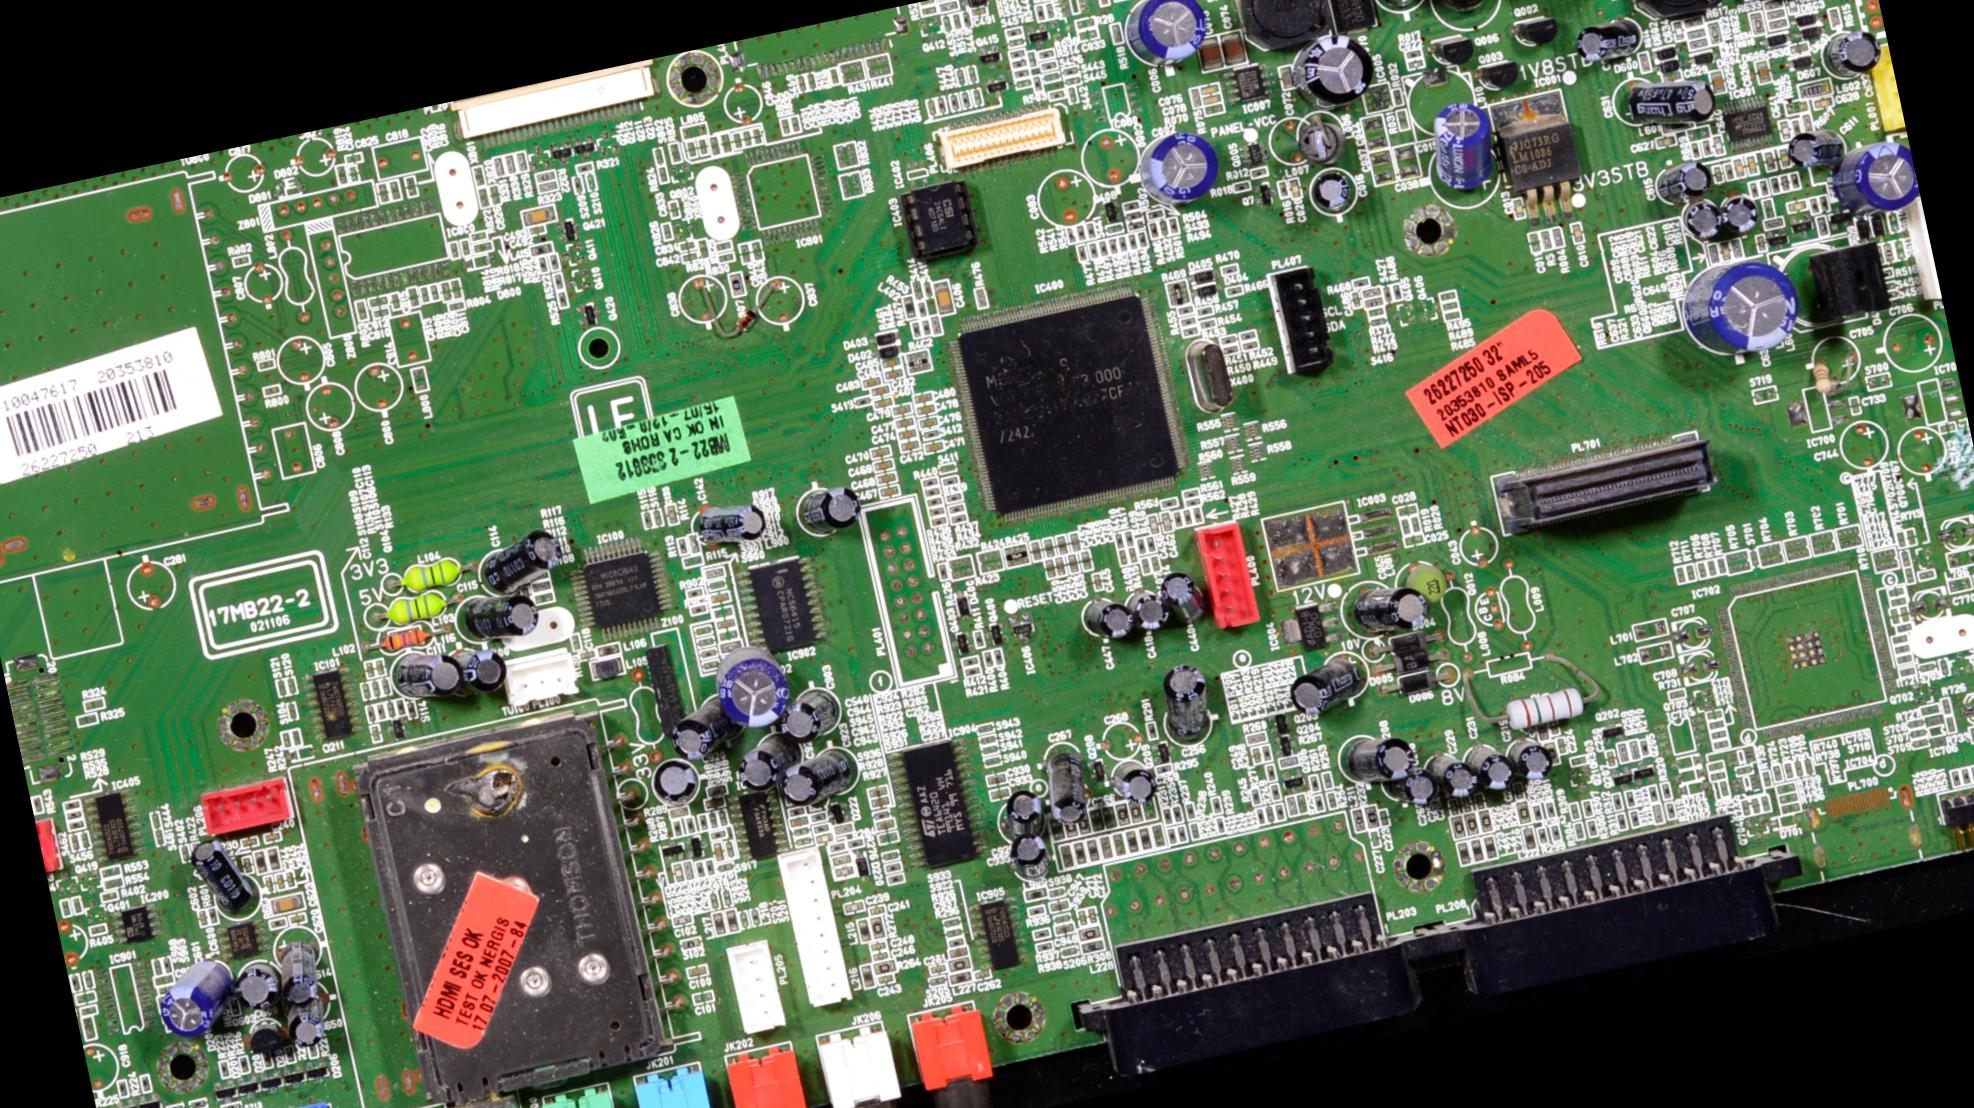Capacitor Jumper: (1358, 698, 1554, 804), (729, 721, 867, 819), (1063, 566, 1211, 655), (1423, 89, 1502, 201), (1868, 303, 1958, 394), (1621, 66, 1718, 132), (1154, 656, 1220, 750), (1283, 650, 1370, 720), (1350, 574, 1434, 640), (1358, 107, 1428, 186), (664, 698, 746, 764), (1000, 787, 1056, 882), (1672, 194, 1762, 249), (869, 385, 953, 440), (850, 431, 911, 506), (1792, 342, 1874, 397), (1039, 744, 1094, 825), (1028, 526, 1098, 584), (774, 686, 849, 740), (1570, 10, 1642, 66), (1892, 420, 1952, 486), (362, 128, 432, 184), (1834, 415, 1897, 475), (1646, 156, 1716, 208), (720, 74, 778, 129), (1709, 146, 1792, 184), (852, 349, 911, 400), (1106, 754, 1159, 808), (398, 274, 466, 316), (1306, 164, 1358, 214), (1194, 28, 1247, 73), (1677, 646, 1721, 686), (1670, 616, 1714, 655), (1071, 9, 1110, 52), (1824, 0, 1863, 37), (1658, 64, 1710, 89), (929, 278, 959, 321), (266, 890, 309, 918), (1444, 790, 1488, 816), (1134, 533, 1160, 576), (732, 238, 766, 270), (267, 910, 313, 932), (1144, 508, 1174, 539), (920, 438, 957, 462), (706, 886, 736, 914), (568, 626, 595, 656), (1274, 60, 1294, 100), (1649, 128, 1682, 152), (1945, 572, 1973, 600), (776, 110, 804, 138), (364, 291, 392, 319), (986, 770, 1011, 800), (1957, 685, 1973, 730), (865, 783, 892, 809), (71, 986, 104, 1006), (676, 235, 700, 262), (1707, 66, 1728, 96), (687, 986, 718, 1006), (190, 902, 210, 932), (682, 962, 710, 983), (1811, 93, 1840, 112), (1508, 193, 1527, 221), (1394, 498, 1420, 518), (1566, 220, 1585, 247), (1785, 197, 1812, 216), (1076, 906, 1099, 928), (1200, 82, 1222, 105), (868, 939, 890, 961), (839, 898, 866, 915), (1754, 57, 1772, 82), (896, 436, 921, 454), (668, 911, 694, 928), (1669, 15, 1686, 41), (236, 834, 260, 852), (1367, 827, 1384, 852), (1113, 802, 1129, 828), (970, 968, 993, 986), (1406, 58, 1430, 75), (1776, 170, 1794, 192), (786, 814, 810, 830), (874, 817, 898, 833), (1376, 804, 1392, 828), (1047, 899, 1071, 915), (664, 195, 680, 218), (1402, 533, 1425, 549), (1127, 798, 1142, 822), (1049, 817, 1064, 840), (1847, 393, 1864, 413), (1076, 810, 1090, 834), (1060, 842, 1074, 866), (926, 964, 950, 978), (1142, 799, 1157, 821), (1152, 823, 1166, 846), (1064, 817, 1079, 838), (1289, 176, 1302, 200), (866, 902, 886, 917), (948, 947, 971, 960), (1528, 229, 1541, 252), (708, 590, 728, 604), (1114, 833, 1126, 856), (712, 843, 725, 864), (262, 830, 280, 844), (1054, 923, 1073, 936), (1718, 240, 1730, 260), (1603, 750, 1616, 768), (1350, 292, 1363, 310), (970, 7, 991, 18), (716, 618, 734, 630), (879, 975, 894, 986)
Connector: (1422, 25, 1482, 72), (1510, 9, 1564, 49), (1472, 54, 1525, 94), (1795, 5, 1832, 44), (1648, 43, 1684, 75), (1782, 50, 1821, 74), (1760, 30, 1791, 50), (1686, 51, 1716, 69)
IC: (560, 520, 684, 647), (1254, 484, 1402, 590), (889, 733, 989, 874), (726, 138, 840, 260), (730, 550, 843, 670), (91, 948, 160, 1034), (964, 885, 1032, 971), (80, 783, 150, 865), (297, 662, 365, 746), (727, 785, 795, 863), (1268, 596, 1353, 656), (1780, 377, 1852, 442), (1897, 372, 1967, 436), (1714, 90, 1778, 156), (104, 896, 176, 953), (1220, 58, 1276, 111), (1098, 77, 1146, 131), (1660, 712, 1704, 759), (1228, 136, 1274, 170), (1005, 608, 1041, 644)
Resistor: (1666, 554, 1730, 589), (1945, 758, 1973, 789), (1940, 696, 1957, 734)
Resistor Jumper: (502, 643, 587, 708), (1758, 522, 1864, 570), (1876, 583, 1923, 675), (210, 911, 278, 968), (944, 544, 1028, 584), (1073, 228, 1151, 264), (836, 50, 897, 92), (82, 1040, 120, 1100), (1696, 698, 1737, 752), (1172, 298, 1224, 340), (830, 164, 882, 204), (92, 878, 162, 907), (824, 134, 870, 178), (1162, 801, 1203, 846), (1446, 806, 1496, 842), (1760, 754, 1815, 786), (1672, 754, 1710, 799), (95, 854, 154, 882), (95, 869, 156, 896), (695, 232, 736, 270), (1218, 327, 1264, 356), (490, 146, 530, 179), (332, 152, 368, 188), (1646, 781, 1676, 824), (1610, 789, 1640, 831), (1360, 288, 1390, 330), (1156, 274, 1194, 306), (1435, 286, 1466, 324), (520, 197, 560, 226), (53, 890, 89, 921), (1114, 528, 1140, 568), (957, 653, 990, 684), (1773, 780, 1801, 816), (661, 496, 690, 530), (914, 0, 962, 20), (1062, 220, 1102, 244), (1724, 546, 1756, 575), (1119, 198, 1146, 232), (1538, 222, 1568, 252), (1171, 504, 1206, 529), (1028, 924, 1056, 954), (649, 146, 670, 186), (225, 247, 258, 272), (918, 422, 952, 446), (533, 168, 561, 197), (1763, 2, 1790, 32), (1745, 6, 1770, 38), (276, 726, 306, 752), (80, 690, 111, 715), (1247, 440, 1274, 468), (880, 860, 906, 888), (1192, 458, 1220, 484), (978, 646, 1008, 670), (70, 708, 102, 730), (1536, 820, 1563, 846), (1531, 799, 1559, 824), (1210, 796, 1228, 834), (1748, 176, 1779, 198), (973, 277, 993, 311), (670, 814, 698, 838), (1706, 17, 1728, 47), (1008, 47, 1030, 76), (250, 352, 279, 374), (1892, 524, 1918, 548), (30, 791, 53, 818), (1246, 161, 1276, 181), (1228, 177, 1258, 197), (1687, 138, 1714, 160), (1220, 432, 1244, 456), (1038, 46, 1059, 73), (1216, 409, 1239, 433), (1240, 418, 1262, 443), (1397, 514, 1422, 536), (202, 898, 220, 928), (680, 582, 706, 602), (1084, 838, 1102, 866), (1229, 454, 1250, 478), (866, 916, 886, 941), (1070, 839, 1089, 865), (1688, 26, 1707, 52), (1662, 686, 1689, 704), (701, 564, 727, 582), (1181, 486, 1200, 510), (76, 1002, 101, 1020), (236, 1052, 254, 1077), (260, 382, 285, 400), (1399, 46, 1427, 62), (1200, 103, 1228, 119), (1137, 827, 1155, 851), (1272, 176, 1290, 200), (1100, 803, 1117, 828), (1265, 783, 1285, 804), (1728, 237, 1746, 260), (1798, 111, 1815, 135), (1150, 763, 1178, 777), (522, 221, 548, 236), (1218, 260, 1242, 276), (1087, 807, 1102, 832), (687, 602, 710, 618), (1098, 834, 1112, 860), (847, 393, 871, 408), (1002, 25, 1026, 40), (811, 813, 828, 834), (1024, 903, 1046, 919), (1787, 167, 1802, 190), (1144, 718, 1160, 739), (216, 1058, 230, 1082), (1918, 702, 1942, 716), (1580, 795, 1594, 819), (873, 962, 897, 976), (1166, 214, 1180, 238), (676, 536, 690, 560), (1571, 820, 1586, 842), (1144, 206, 1166, 221), (573, 159, 596, 173), (354, 298, 368, 321), (1146, 220, 1162, 240), (1706, 242, 1722, 262), (1391, 280, 1404, 304), (1224, 282, 1246, 296), (1126, 832, 1140, 853), (1782, 97, 1796, 118), (1158, 496, 1178, 510), (871, 808, 893, 820), (947, 936, 968, 948), (1350, 276, 1368, 290), (1568, 801, 1580, 820), (1030, 74, 1042, 93), (1250, 788, 1262, 806), (1586, 820, 1598, 838), (1929, 736, 1945, 748), (1256, 806, 1266, 824), (190, 836, 198, 846), (151, 868, 154, 871)
Transistor: (866, 325, 908, 359), (569, 127, 604, 164), (1611, 761, 1657, 788), (544, 133, 578, 169), (1826, 202, 1860, 234), (1786, 212, 1818, 244), (973, 44, 1005, 72), (981, 74, 1015, 100), (947, 629, 975, 658), (1279, 768, 1307, 796), (952, 585, 974, 619), (1267, 711, 1293, 739), (1418, 64, 1448, 88), (985, 620, 1011, 647), (1026, 23, 1053, 48), (1272, 737, 1300, 761), (852, 850, 872, 882), (1764, 228, 1790, 252), (1150, 739, 1172, 765), (661, 840, 686, 859), (690, 836, 708, 860), (702, 796, 726, 812), (960, 0, 996, 10), (705, 785, 728, 798), (1602, 726, 1622, 740)
